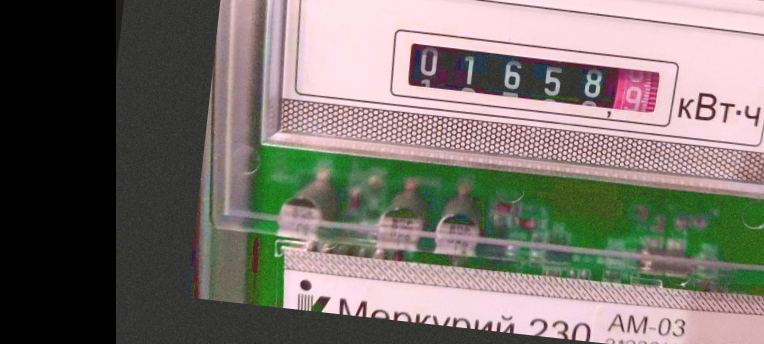0: (418, 45, 441, 77)
1: (460, 52, 480, 86)
5: (541, 63, 565, 96)
6: (501, 56, 525, 91)
8: (582, 65, 606, 99)
9: (621, 83, 645, 113)
screen: (378, 19, 686, 134)
